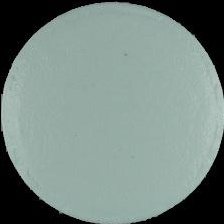76237-217: (0, 0, 224, 224)
